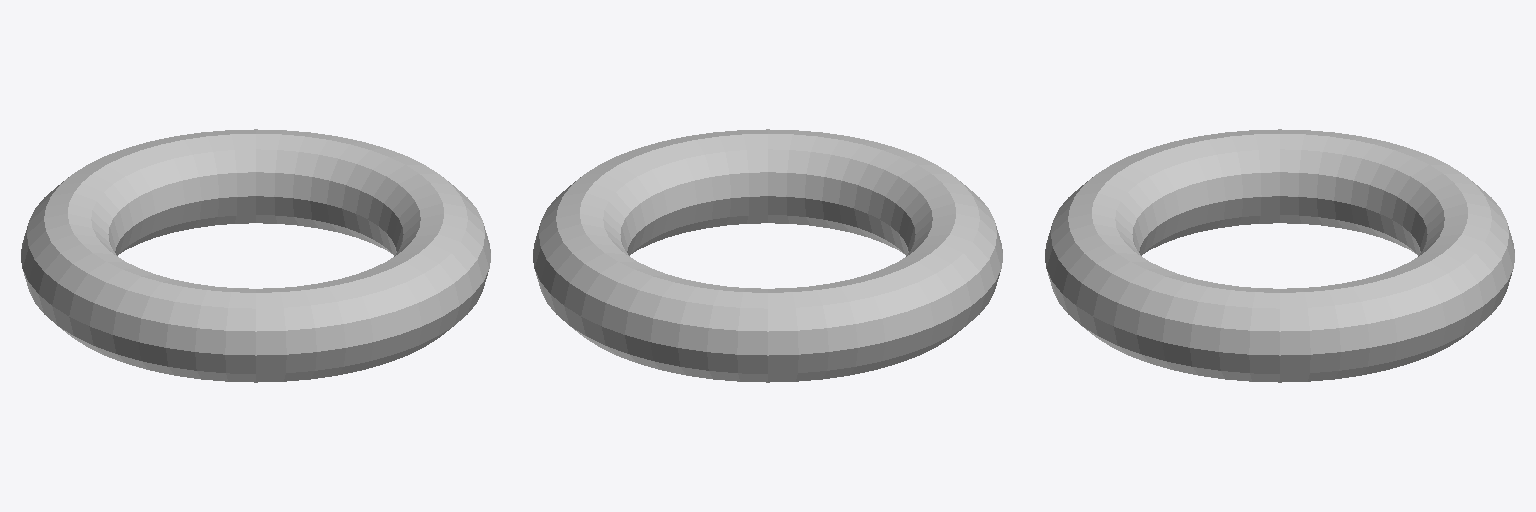
The picture shows the model from 3 angles: view 1: azimuth 30°, elevation 25°; view 2: azimuth 150°, elevation 25°; view 3: azimuth 270°, elevation 25°; orthographic projection.
Parts seen in each view (by area): view 1: HiddenObject1_Torus; view 2: HiddenObject1_Torus; view 3: HiddenObject1_Torus.
Part boxes in pixels (x1,y1,x2,y2): HiddenObject1_Torus: (21,129,490,382); HiddenObject1_Torus: (533,129,1002,382); HiddenObject1_Torus: (1045,129,1514,382).
Size of the model in its own units: 2.5 by 0.5 by 2.5.